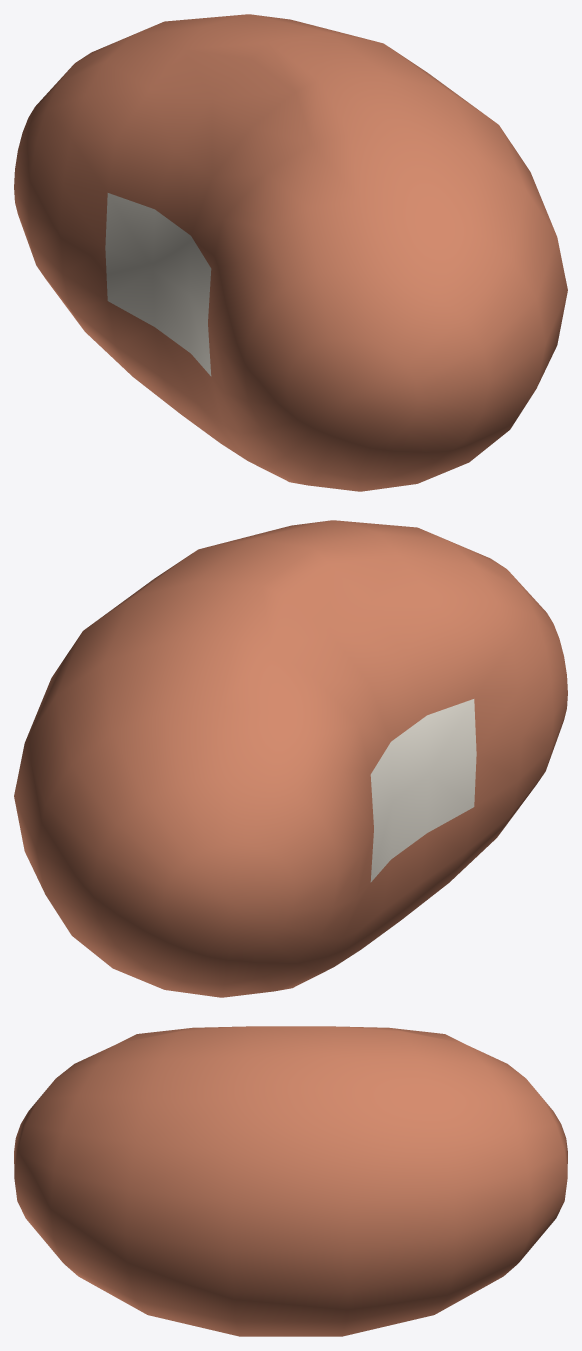
The model's file is pea_ammo.fbx.
3 renders of one model, top to bottom at view 1: azimuth 30°, elevation 25°; view 2: azimuth 150°, elevation 25°; view 3: azimuth 270°, elevation 25°, orthographic. The views are drawn at different scales.
Parts seen in each view (by area): view 1: pea_ammo; view 2: pea_ammo; view 3: pea_ammo.
Boxes of the visible parts, x1,y1,x2,y2 form: pea_ammo: [14, 14, 567, 491]; pea_ammo: [14, 520, 567, 997]; pea_ammo: [14, 1026, 567, 1336].
Size of the model in its own units: 16.82 by 16.71 by 28.72.
